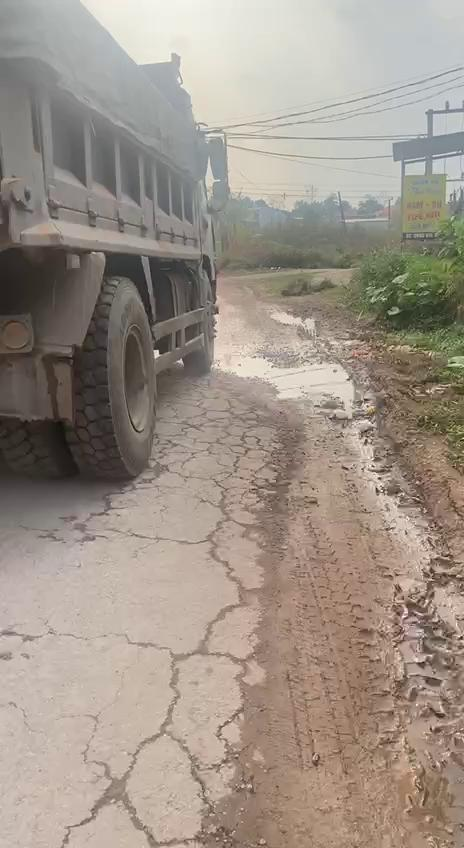pothole: (225, 352, 358, 412)
